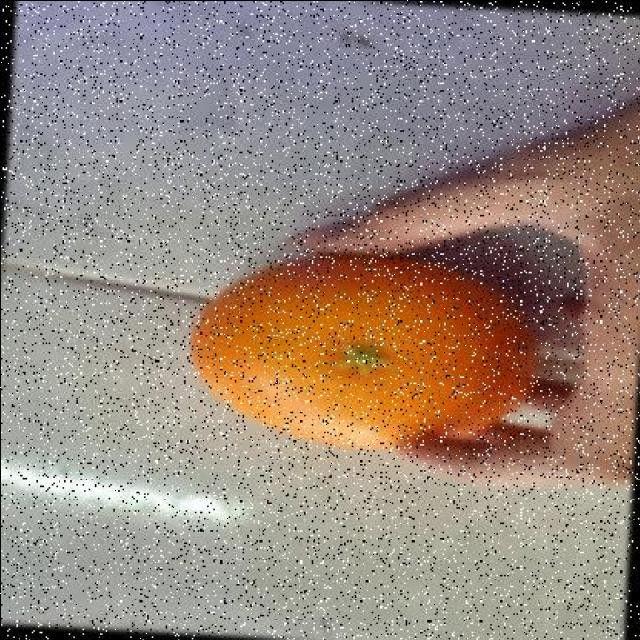Orange: (187, 254, 538, 454)
